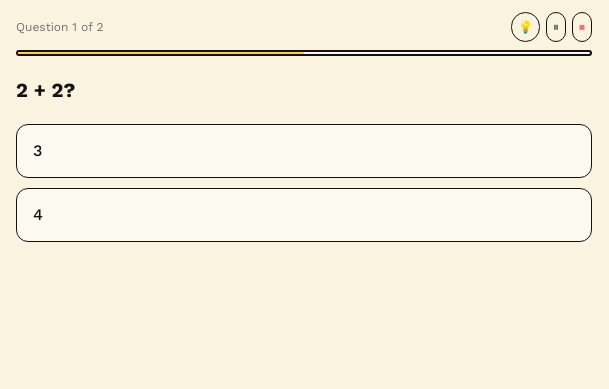
Test: QuizQuestion › submits the selected answer and shows feedback
The image size is (609, 389).
Click the button "4". click: point(38, 214)
box: [16, 188, 592, 242]
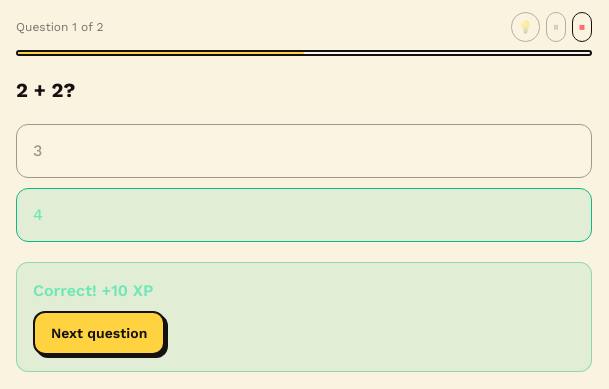
Check: the text "Correct! +10 XP" is shown, box [33, 281, 153, 300]
